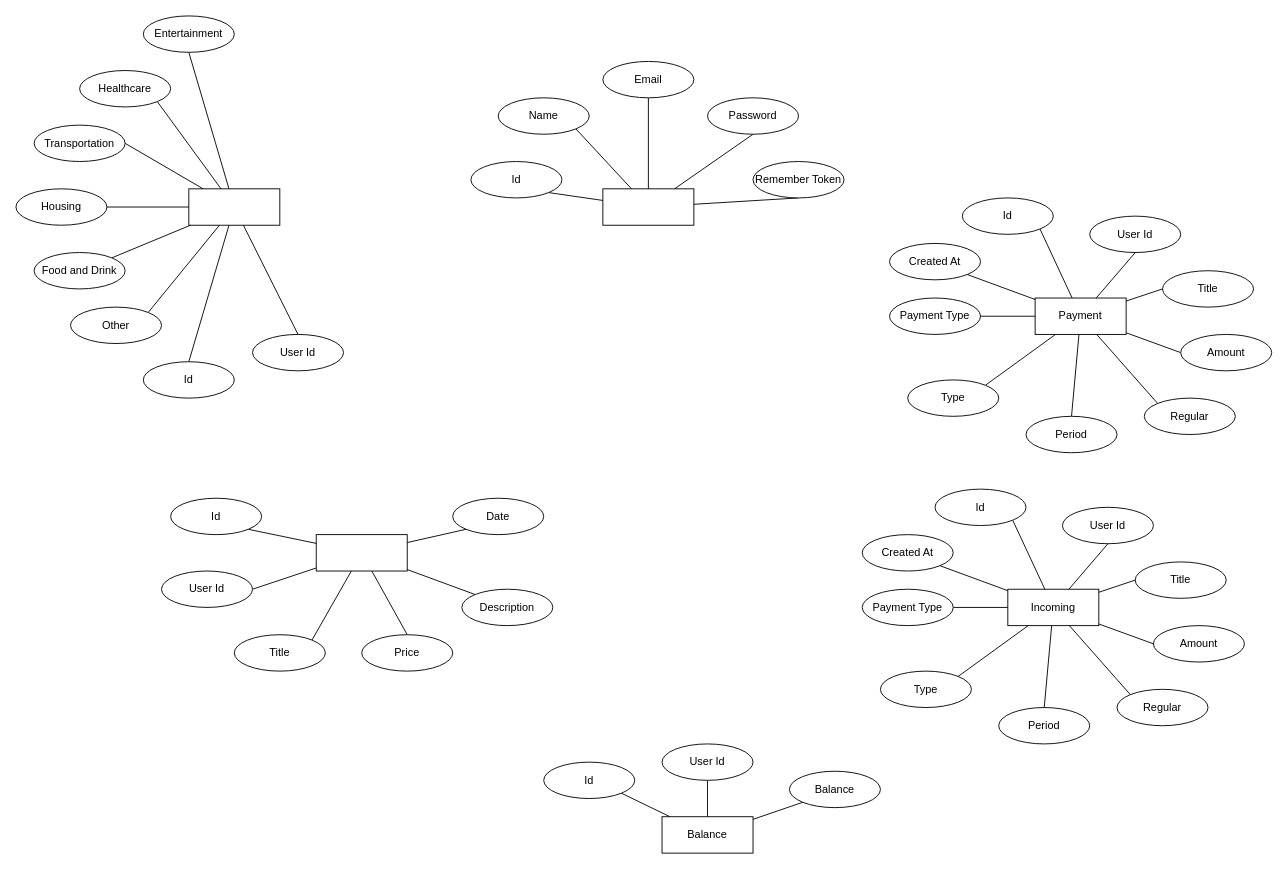
Image size: 1288x869. Some labels were removed from this diagram. The centre of each missing label's shape, as x and y in pixels:
"Data" belongs at point 234,206.
"Goal" belongs at point 361,552.
"User" belongs at point 648,206.
